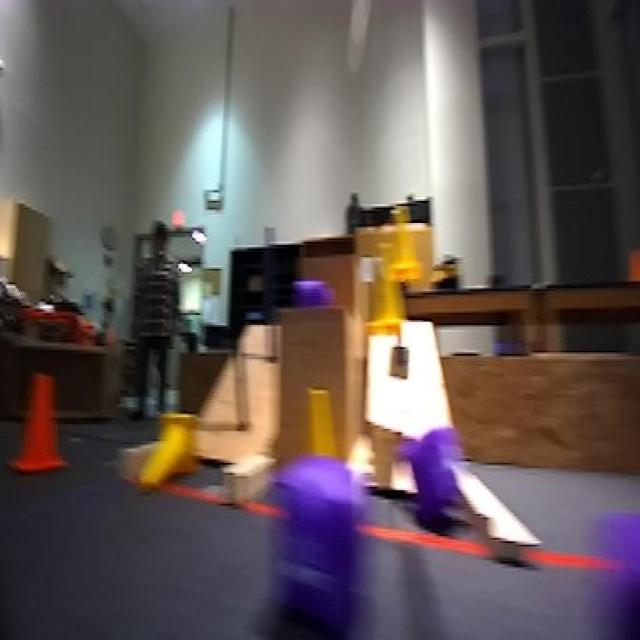frc_cone: (132, 414, 198, 492), (290, 385, 336, 495), (356, 240, 399, 340), (388, 202, 422, 290)
frc_cube: (383, 410, 470, 555), (279, 468, 370, 604), (583, 490, 640, 640), (284, 267, 338, 313)
